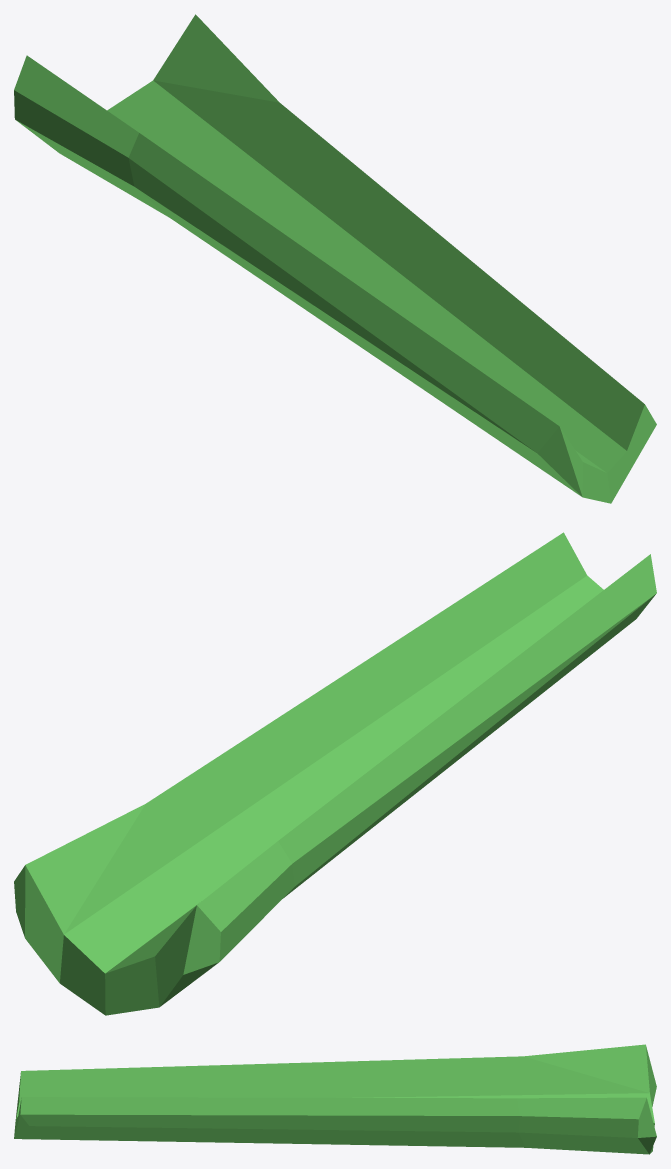
File: Celery.fbx
3 views of the same model, one above another, from view 1: azimuth 30°, elevation 25°; view 2: azimuth 150°, elevation 25°; view 3: azimuth 270°, elevation 25° (orthographic). The views are drawn at different scales.
Parts seen in each view (by area): view 1: Celery; view 2: Celery; view 3: Celery.
Boxes of the visible parts, x1=… form: Celery: x1=14, y1=14, x2=656, y2=503; Celery: x1=14, y1=532, x2=656, y2=1015; Celery: x1=14, y1=1044, x2=656, y2=1154.
Bounding box in the file's own units: 3.88 × 2.28 × 16.55.
